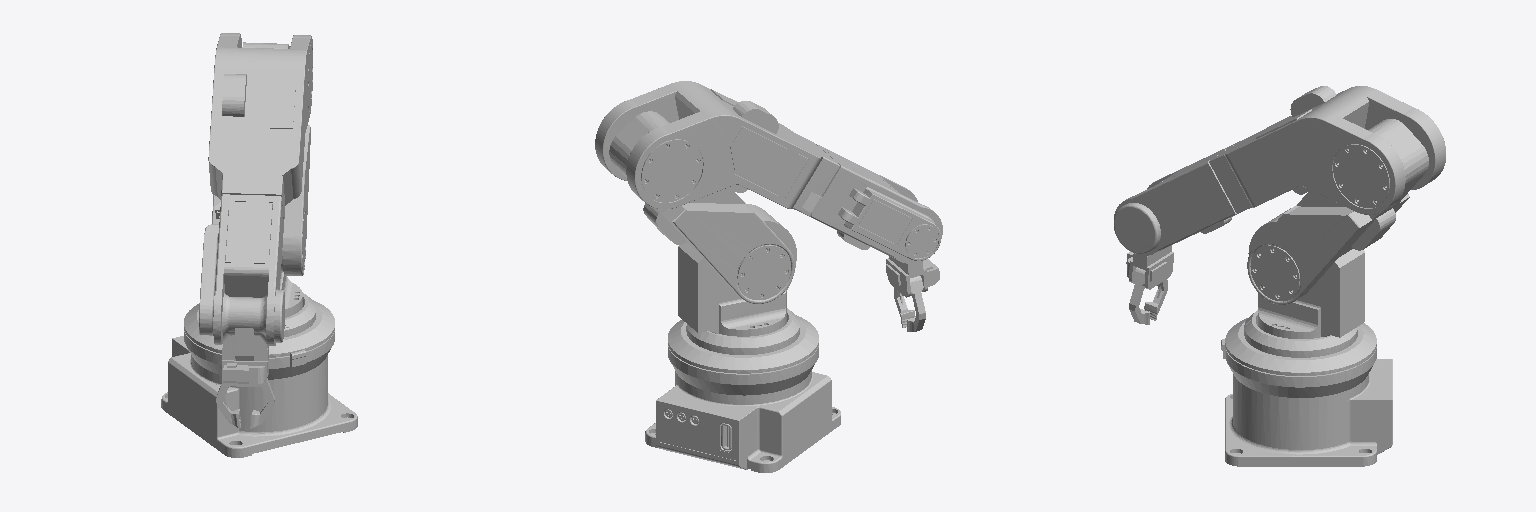
The picture shows the model from 3 angles: view 1: azimuth 30°, elevation 25°; view 2: azimuth 150°, elevation 25°; view 3: azimuth 270°, elevation 25°; orthographic projection.
Visible parts, largest first — view 1: OBJ_Robot; view 2: OBJ_Robot; view 3: OBJ_Robot.
Boxes of the visible parts, x1,y1,x2,y2 form: OBJ_Robot: [161, 33, 357, 457]; OBJ_Robot: [595, 81, 942, 472]; OBJ_Robot: [1114, 86, 1445, 466].
Size of the model in its own units: 7.01 by 10 by 8.78.